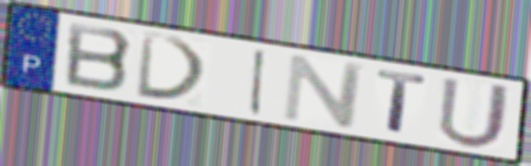B: (62, 20, 136, 94)
D: (134, 29, 212, 104)
I: (246, 46, 270, 117)
N: (279, 52, 368, 130)
T: (374, 67, 430, 137)
U: (434, 75, 515, 151)
